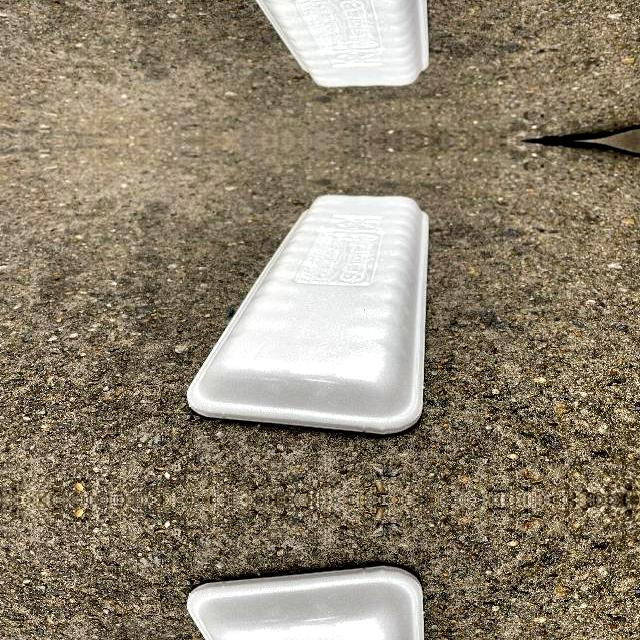Styrofoam: (185, 192, 429, 436), (187, 194, 429, 434), (185, 0, 429, 87), (185, 562, 429, 640), (187, 564, 425, 640), (256, 0, 429, 86)
